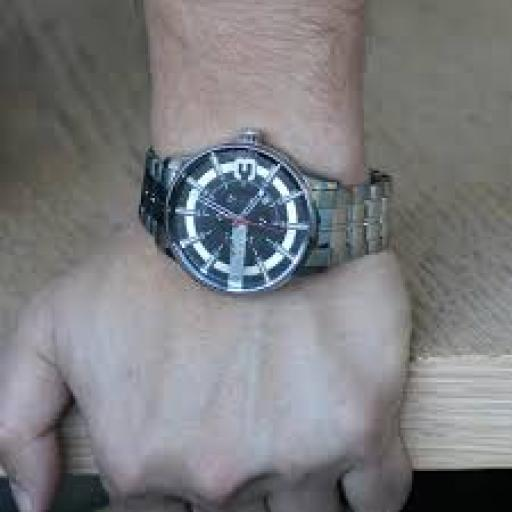KolSaati: (82, 72, 402, 279)
